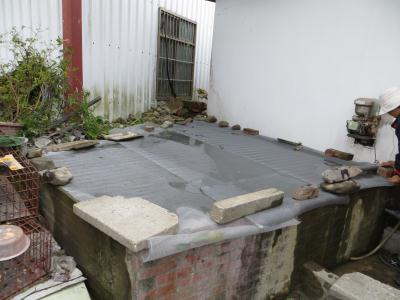bowl: (1, 224, 31, 264)
plastic_bag: (86, 127, 287, 190)
